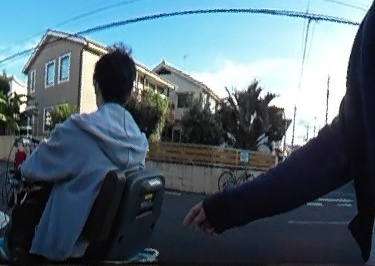person: (16, 41, 155, 266)
